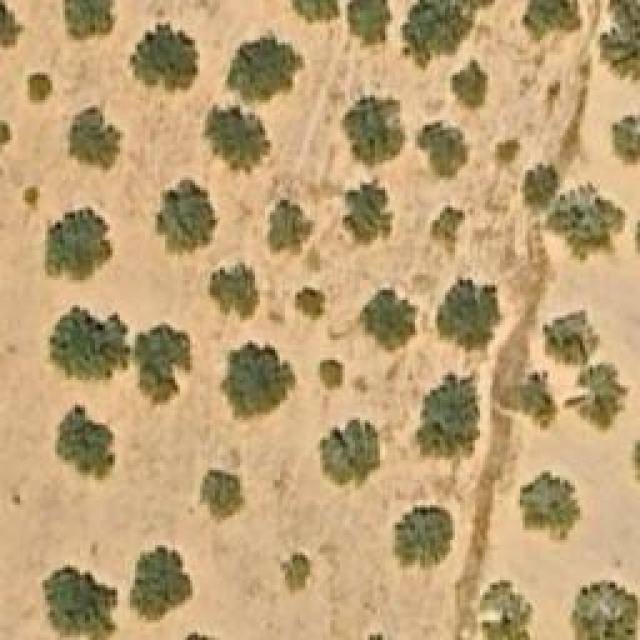Tree: (223, 338, 298, 423), (50, 305, 130, 378), (418, 370, 481, 460), (42, 567, 117, 640), (317, 418, 395, 488), (152, 177, 220, 255), (400, 0, 478, 65), (205, 103, 273, 177), (230, 33, 304, 101), (130, 545, 193, 623), (55, 403, 115, 483), (130, 20, 198, 90), (45, 208, 110, 281), (438, 278, 503, 351), (343, 93, 406, 168), (135, 325, 190, 408), (518, 473, 583, 543), (553, 185, 613, 255), (390, 505, 453, 570), (570, 582, 640, 640), (573, 365, 633, 429), (500, 370, 558, 434), (62, 108, 120, 171), (358, 290, 418, 350), (417, 123, 475, 183), (343, 178, 396, 243), (597, 0, 640, 77), (480, 580, 533, 640), (267, 200, 315, 263), (208, 263, 258, 316), (519, 0, 582, 42), (200, 470, 248, 525), (545, 318, 593, 363), (348, 0, 391, 45), (65, 0, 113, 38), (453, 58, 488, 110), (272, 550, 310, 595), (610, 113, 640, 168), (525, 165, 558, 210), (295, 288, 325, 321), (292, 0, 340, 20), (0, 0, 20, 45), (28, 73, 53, 103), (320, 358, 343, 388), (22, 188, 40, 208)
